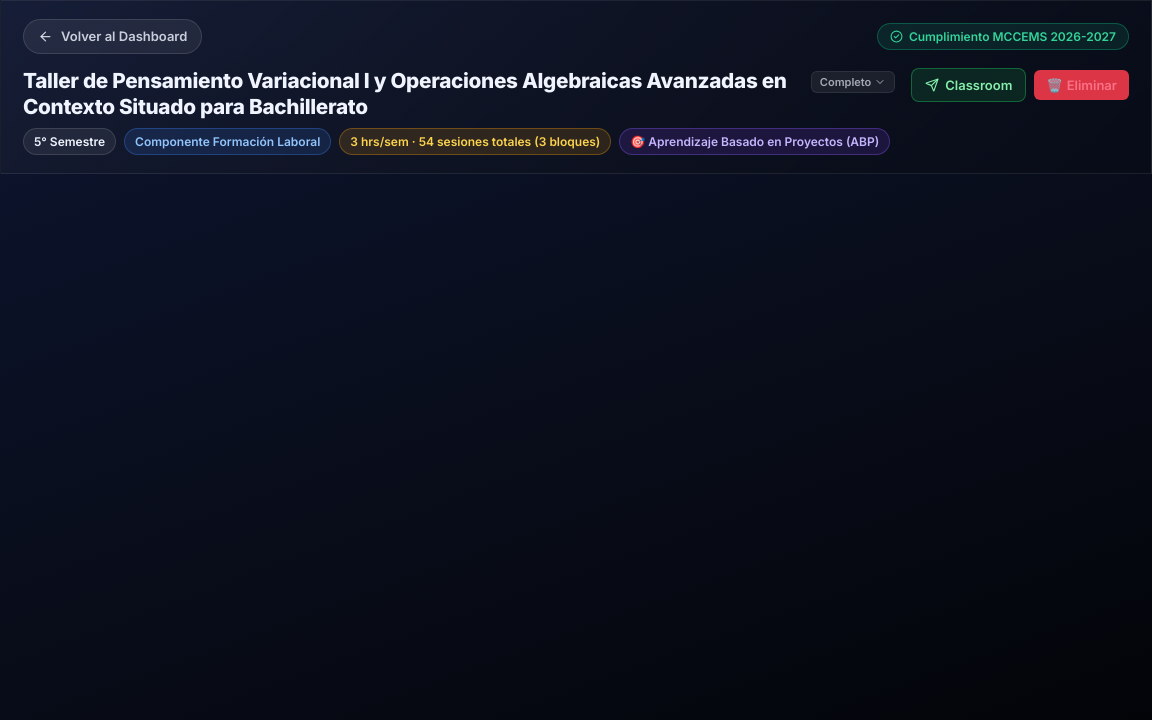
Scenario: Rediseño UI/UX — Componentes Atómicos y Ejes › PlanningDetailHero › elimina botones redundantes de PDF, Word y Vista Carta del hero y expone Classroom y Eliminar con confirmación
Expected: the button "Classroom" is shown, [911,68,1026,102]
Click the button "🗑️ Eliminar".
click(1082, 85)  # box [1034,70,1129,100]
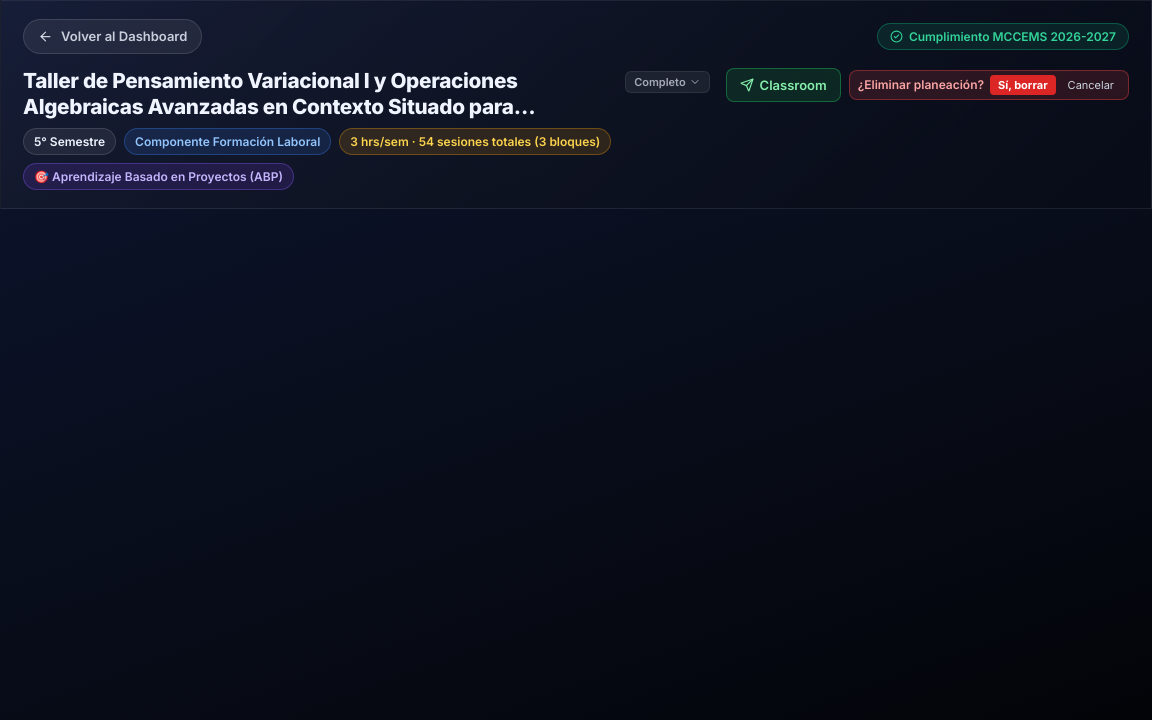
Result: the text "¿Eliminar planeación?" is shown at [858,75,984,94]
Result: the button "Sí, borrar" is shown at [990,75,1056,95]
Result: the button "Cancelar" is shown at [1062,75,1120,95]
